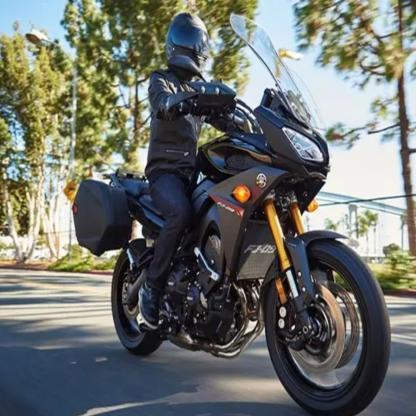helmet: (164, 11, 210, 76)
